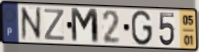2: (101, 9, 122, 45)
5: (158, 11, 176, 47)
G: (131, 10, 154, 48)
M: (69, 7, 101, 46)
N: (19, 6, 44, 42)
Z: (43, 7, 66, 42)
